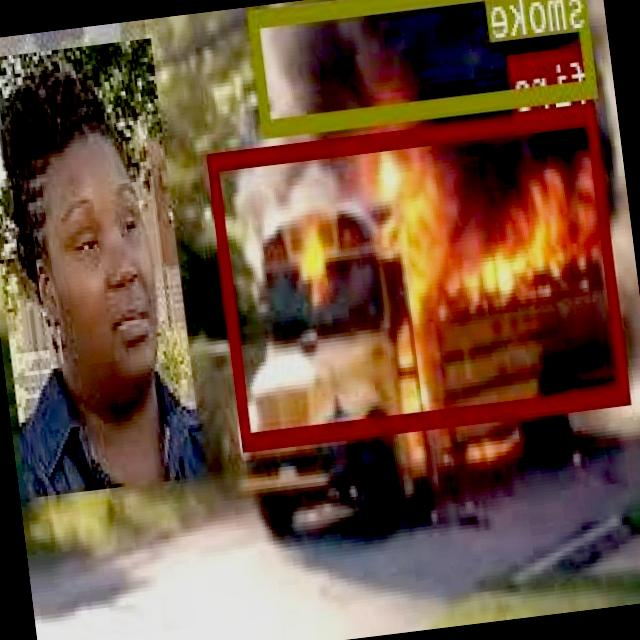fire: (208, 104, 631, 446)
smoke: (249, 0, 598, 131)
